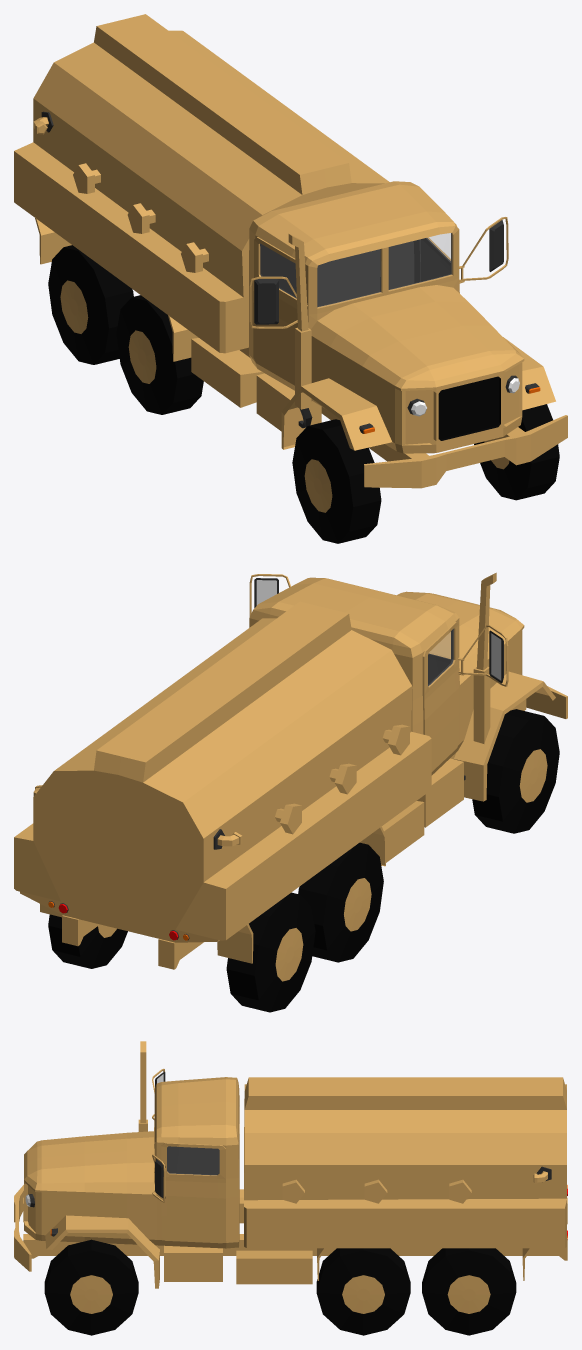
The picture shows the model from 3 angles, top to bottom: view 1: azimuth 30°, elevation 25°; view 2: azimuth 150°, elevation 25°; view 3: azimuth 270°, elevation 25°; orthographic projection. The views are drawn at different scales.
Parts seen in each view (by area): view 1: Plane.024, Cylinder.024, Cylinder.023, Cylinder.022, Plane.026, Plane.029, Plane.030, Cylinder.021, Cylinder.027, Plane.031; view 2: Plane.024, Cylinder.024, Cylinder.023, Cylinder.022, Plane.030, Cylinder.026, Cylinder.027; view 3: Plane.024, Cylinder.021, Cylinder.026, Cylinder.025, Plane.031, Plane.030, Cylinder.027.
Boxes of the visible parts, x1,y1,x2,y2 form: Plane.024: [14, 14, 567, 488]; Cylinder.024: [292, 419, 381, 543]; Cylinder.023: [48, 245, 133, 364]; Cylinder.022: [116, 295, 203, 414]; Plane.026: [318, 233, 451, 306]; Plane.029: [261, 233, 451, 307]; Plane.030: [253, 237, 297, 385]; Cylinder.021: [474, 404, 559, 500]; Cylinder.027: [288, 234, 312, 428]; Plane.031: [420, 223, 457, 281]; Plane.024: [14, 574, 567, 969]; Cylinder.024: [472, 709, 559, 833]; Cylinder.023: [226, 892, 315, 1012]; Cylinder.022: [298, 842, 383, 962]; Plane.030: [422, 622, 458, 771]; Cylinder.026: [48, 914, 127, 968]; Cylinder.027: [464, 572, 496, 780]; Plane.024: [14, 1068, 567, 1288]; Cylinder.021: [44, 1239, 138, 1335]; Cylinder.026: [422, 1248, 516, 1335]; Cylinder.025: [316, 1248, 410, 1335]; Plane.031: [161, 1143, 225, 1243]; Plane.030: [167, 1146, 219, 1174]; Cylinder.027: [138, 1041, 147, 1131].
Size of the model in its own units: 293 by 303 by 702.
